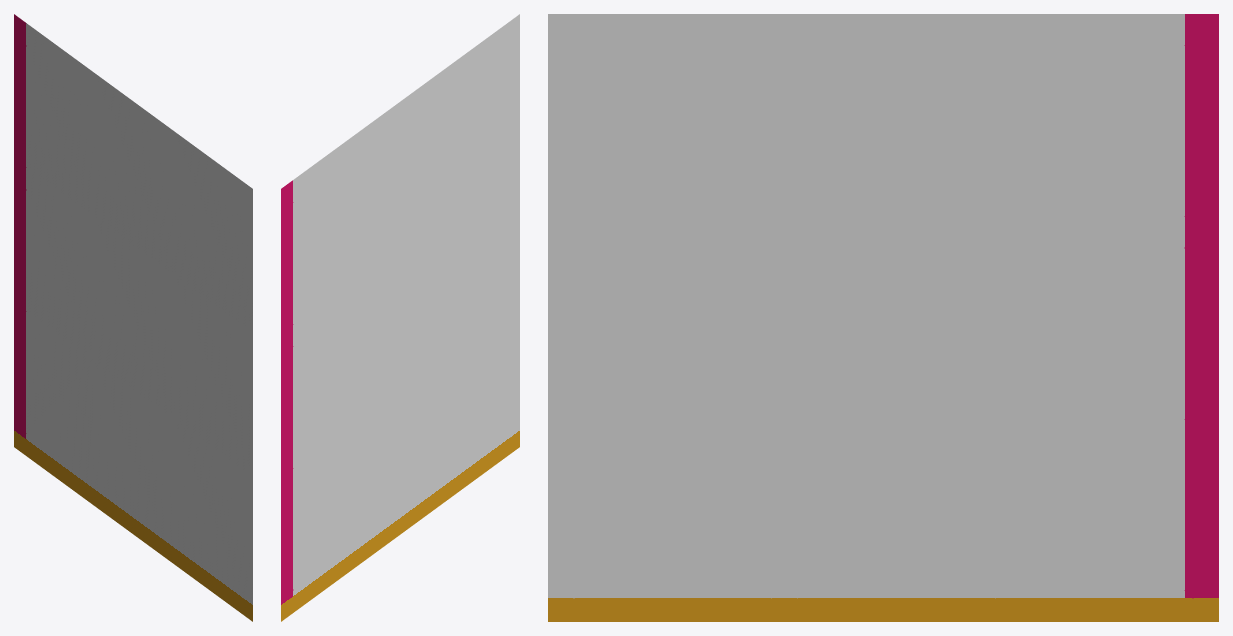
The model's file is end_background.obj.
3 views of the same model, side by side, from view 1: azimuth 30°, elevation 25°; view 2: azimuth 150°, elevation 25°; view 3: azimuth 270°, elevation 25° (orthographic). The views are drawn at different scales.
Parts seen in each view (by area): view 1: end_background; view 2: end_background; view 3: end_background.
Part boxes in pixels (box(x1,y1,x2,y2)): end_background: box(14, 14, 252, 621); end_background: box(281, 14, 519, 621); end_background: box(548, 14, 1218, 621).
Size of the model in its own units: 1e-05 by 178 by 178.
1 material, 1 textured.
